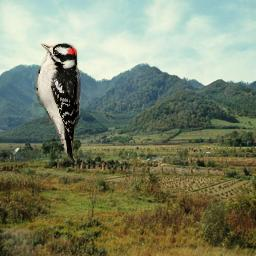Woodpecker: (34, 43, 81, 163)
